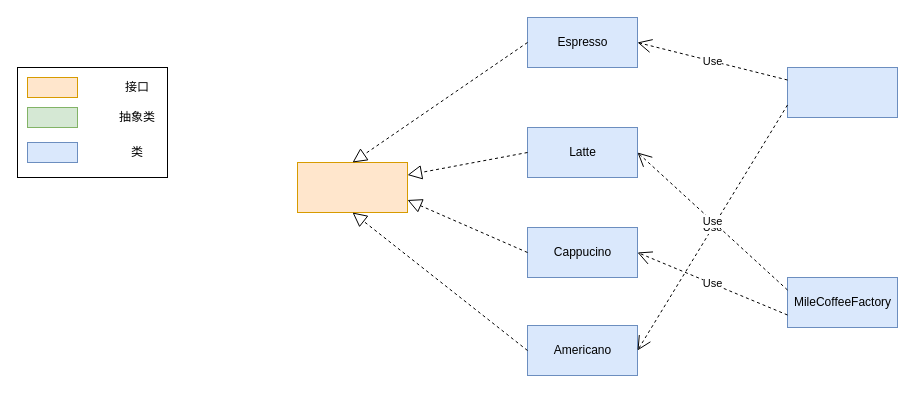
The diagram is 915 pixels wide and 393 high, and some of its shapes have lost their labels. The box of each missing label's shape, as (x1, y1, x2, y2) in pixels:
<<interface>> ICoffee: (296, 162, 408, 212)
BlackCoffeeFactory: (786, 66, 898, 118)
